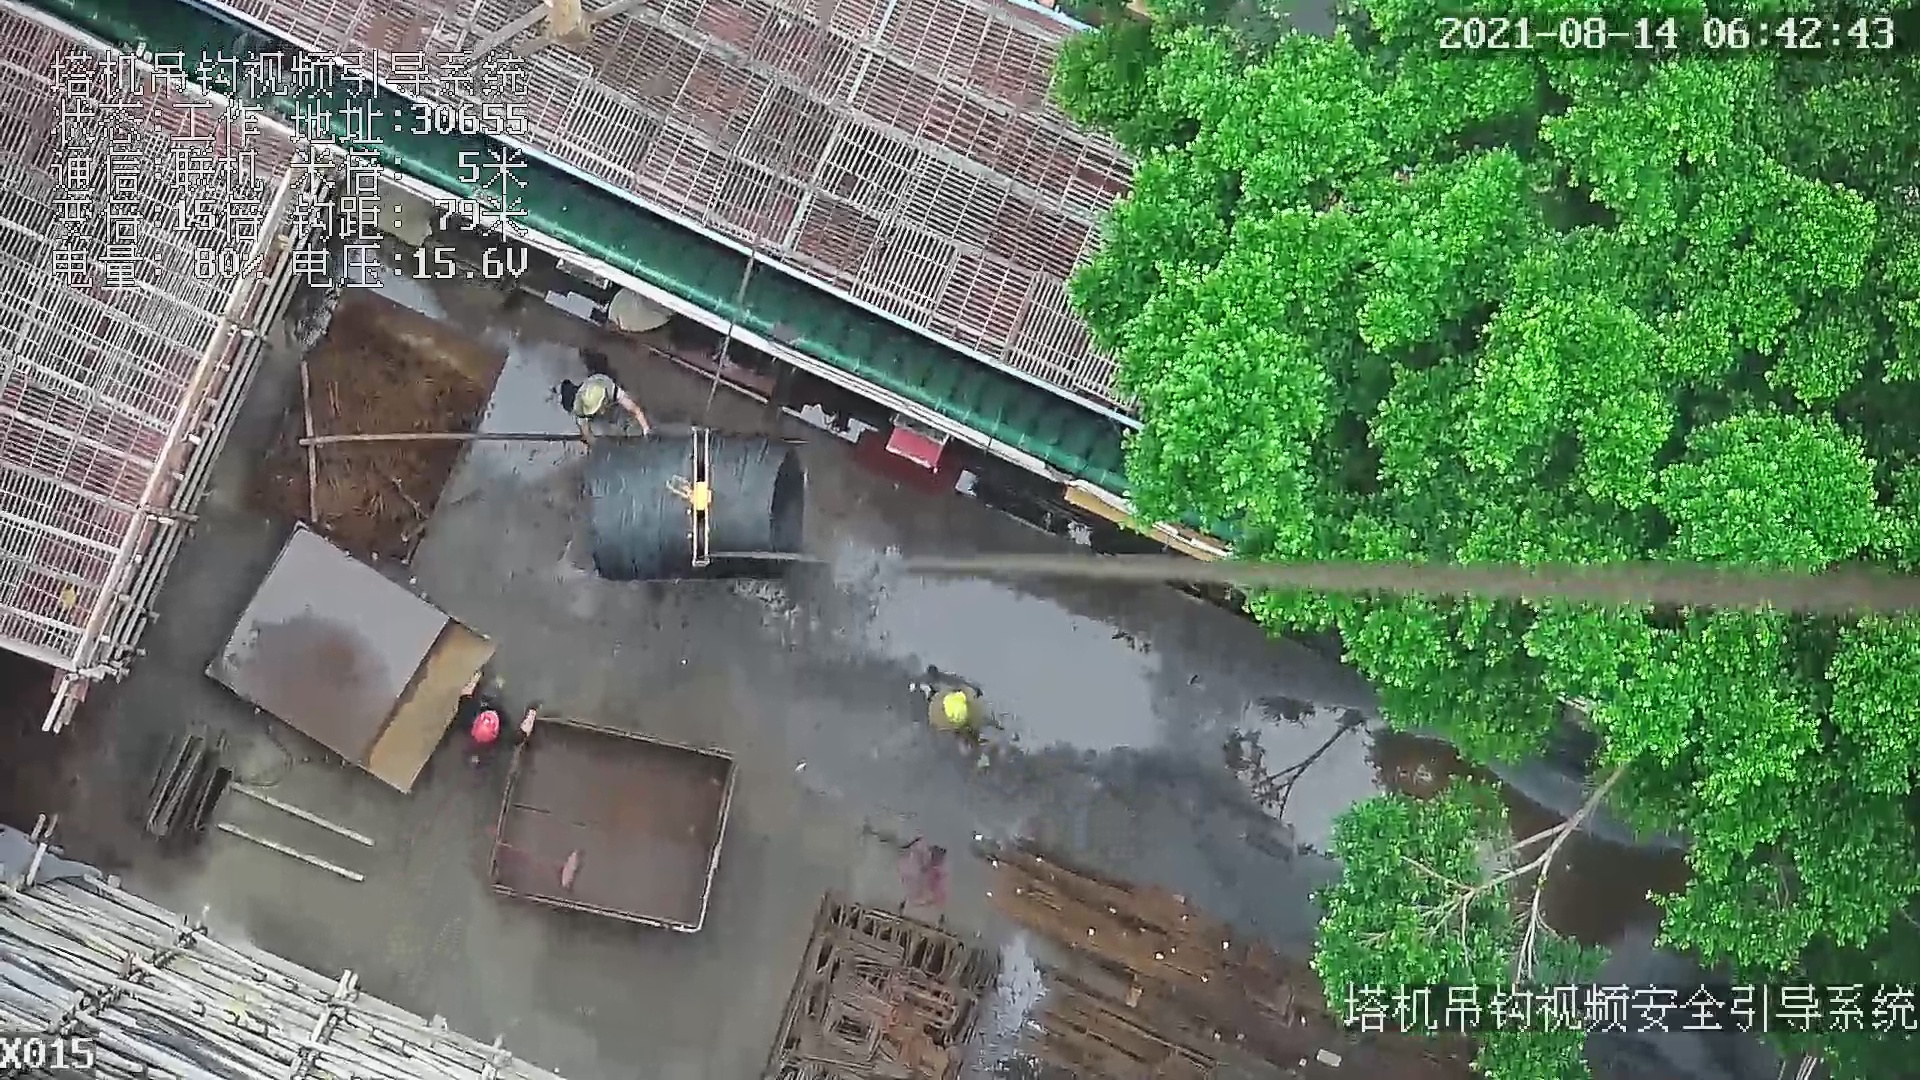helmet: (471, 712, 501, 745), (945, 690, 967, 726), (585, 383, 604, 416)
hook: (664, 423, 718, 571)
person: (558, 350, 660, 454), (453, 672, 545, 763), (912, 664, 991, 756)
